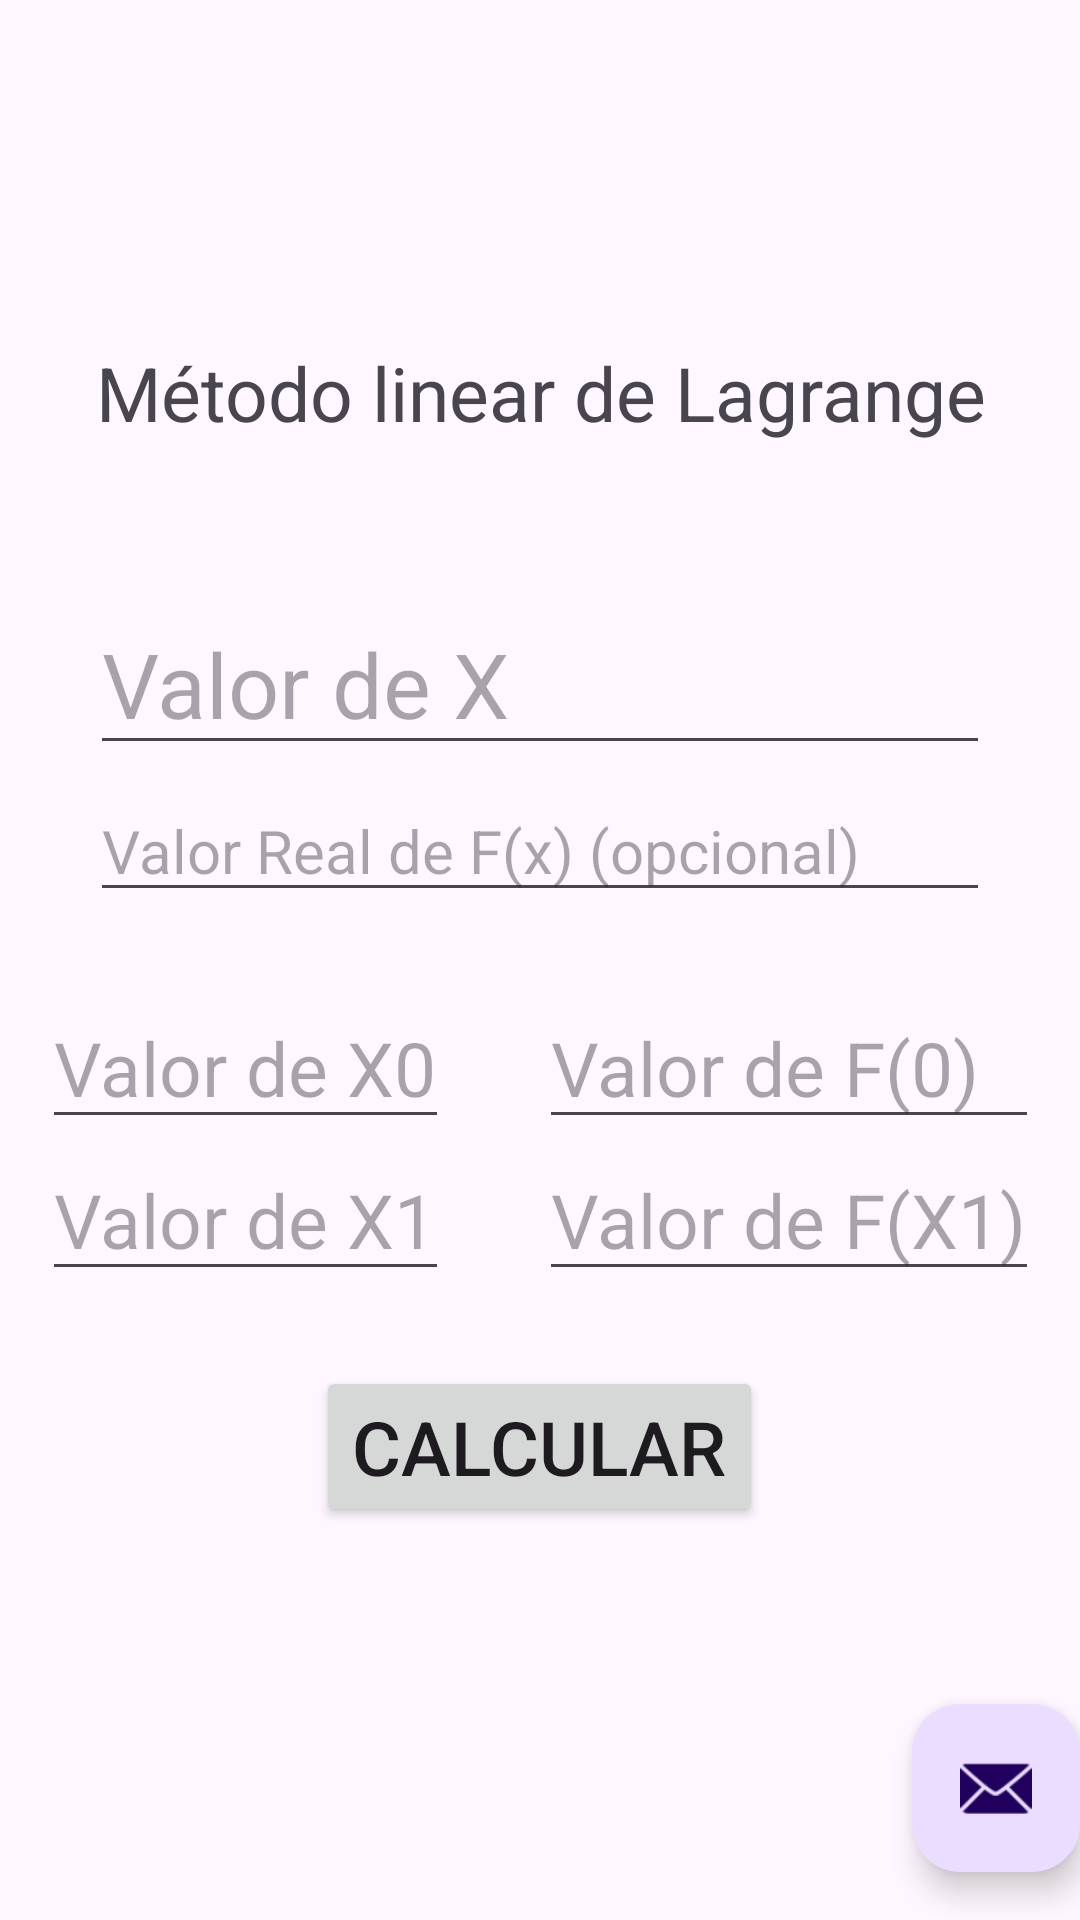

Named icons in this screenshot (1080w x 1920h) and their bounding boxes, (x1, y1, x2, y2):
email: (912, 1704, 1080, 1872)
